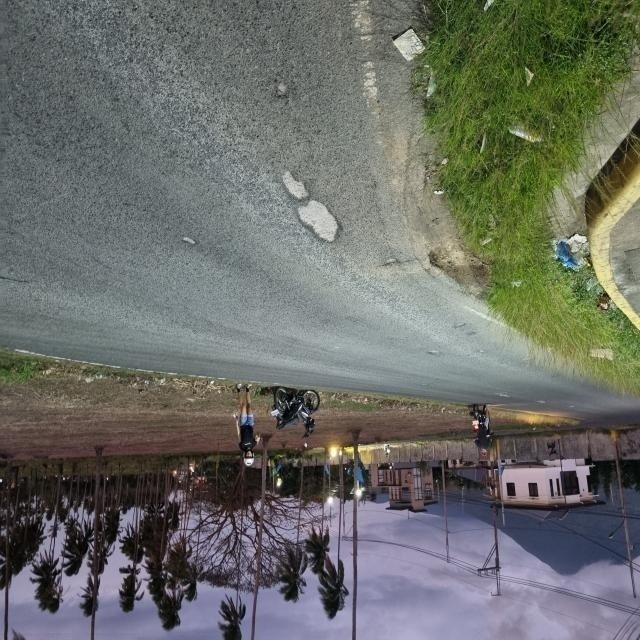pothole: (292, 186, 349, 264), (267, 147, 316, 203), (258, 58, 306, 114), (167, 221, 222, 267)
